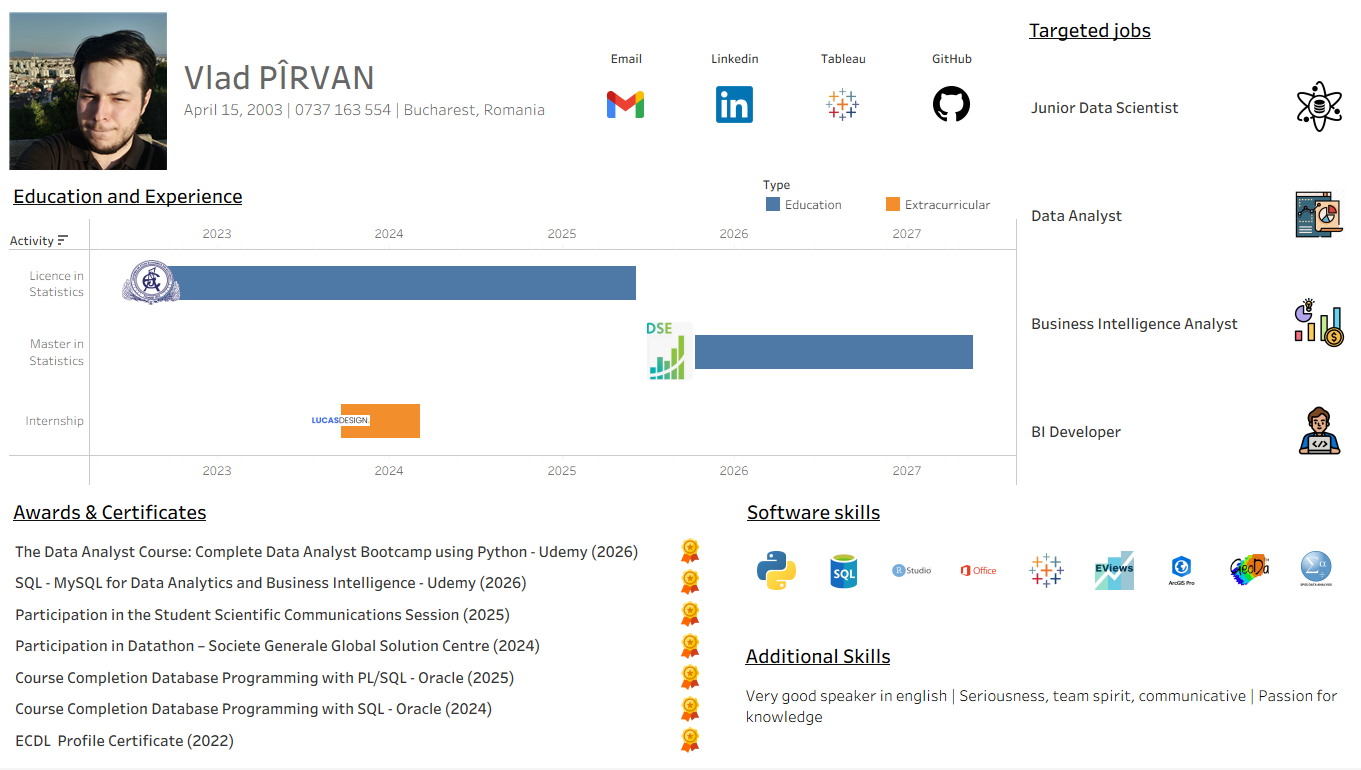

What the dashboard file says about the page in this screenshot:
{"tool":"tableau","page":{"name":"Dashboard 1","canvas":[1366,768],"ordinal":0},"visuals":[{"type":"image","param":"Image/poza_2.jpg","box":[8,8,1015.9,166]},{"type":"worksheet","title":"Targeted jobs","mark":"Shape","rows":["Targeted Jobs"],"box":[1023.9,8,334.1,482]},{"type":"worksheet","title":"Profile","mark":"Shape","cols":["Type"],"box":[575,33,434,109]},{"type":"text","box":[184,40,371,94]},{"type":"worksheet","title":"Education","mark":"GanttBar","rows":["Activity"],"cols":["Start","Start"],"box":[8,174,1015.9,316]},{"type":"legend","title":"Education","param":"[federated.04d0kw61ar9lsa1fwjben1e7aw78].[none:Type:nk]","box":[766,176,244,42]},{"type":"worksheet","title":"Awards & Certificates","mark":"Shape","rows":["Honours and awards"],"box":[8,490,733.9,270]},{"type":"worksheet","title":"Software skills","mark":"Shape","cols":["Software Skills"],"box":[741.9,490,616.1,120]},{"type":"text","box":[741.9,610,616.1,150]}]}

Visuals, with their boxes in screenshot pixels (x1, y1, x2, y2), scaled from the page's 1366x768 canvas onto the 1361x770 screenshot:
image: {"x1": 8, "y1": 8, "x2": 1020, "y2": 174}
"Targeted jobs" worksheet (Shape marks): {"x1": 1020, "y1": 8, "x2": 1353, "y2": 491}
"Profile" worksheet (Shape marks): {"x1": 573, "y1": 33, "x2": 1005, "y2": 142}
text: {"x1": 183, "y1": 40, "x2": 553, "y2": 134}
"Education" worksheet (GanttBar marks): {"x1": 8, "y1": 174, "x2": 1020, "y2": 491}
"Education" legend: {"x1": 763, "y1": 176, "x2": 1006, "y2": 219}
"Awards & Certificates" worksheet (Shape marks): {"x1": 8, "y1": 491, "x2": 739, "y2": 762}
"Software skills" worksheet (Shape marks): {"x1": 739, "y1": 491, "x2": 1353, "y2": 612}
text: {"x1": 739, "y1": 612, "x2": 1353, "y2": 762}
